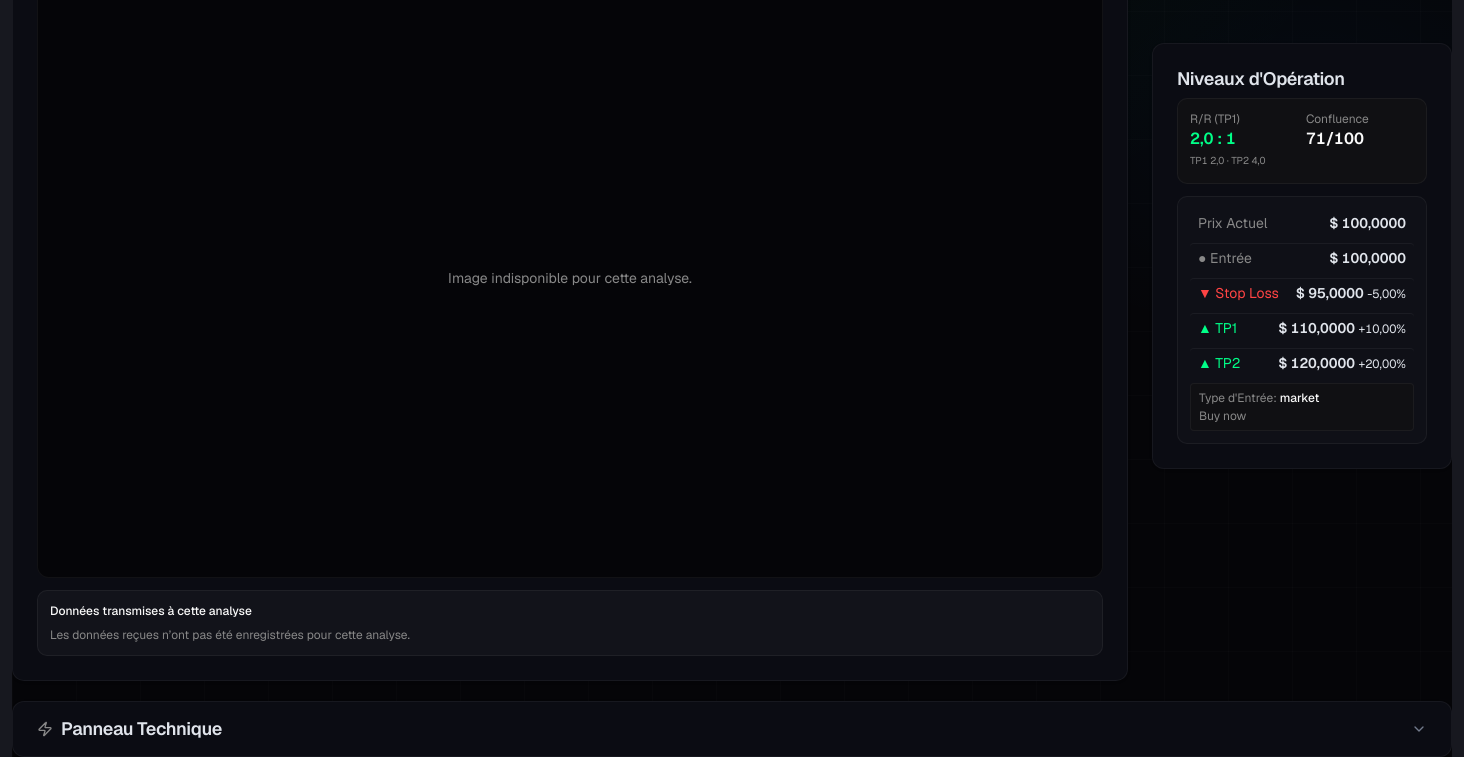
it: C1 technical evidence caution presentation › keeps caution distinct from failure in fr
(page scrolled)
Click the button "Panneau Technique" at (141, 729), box [13,702,1451,756]
(page scrolled)
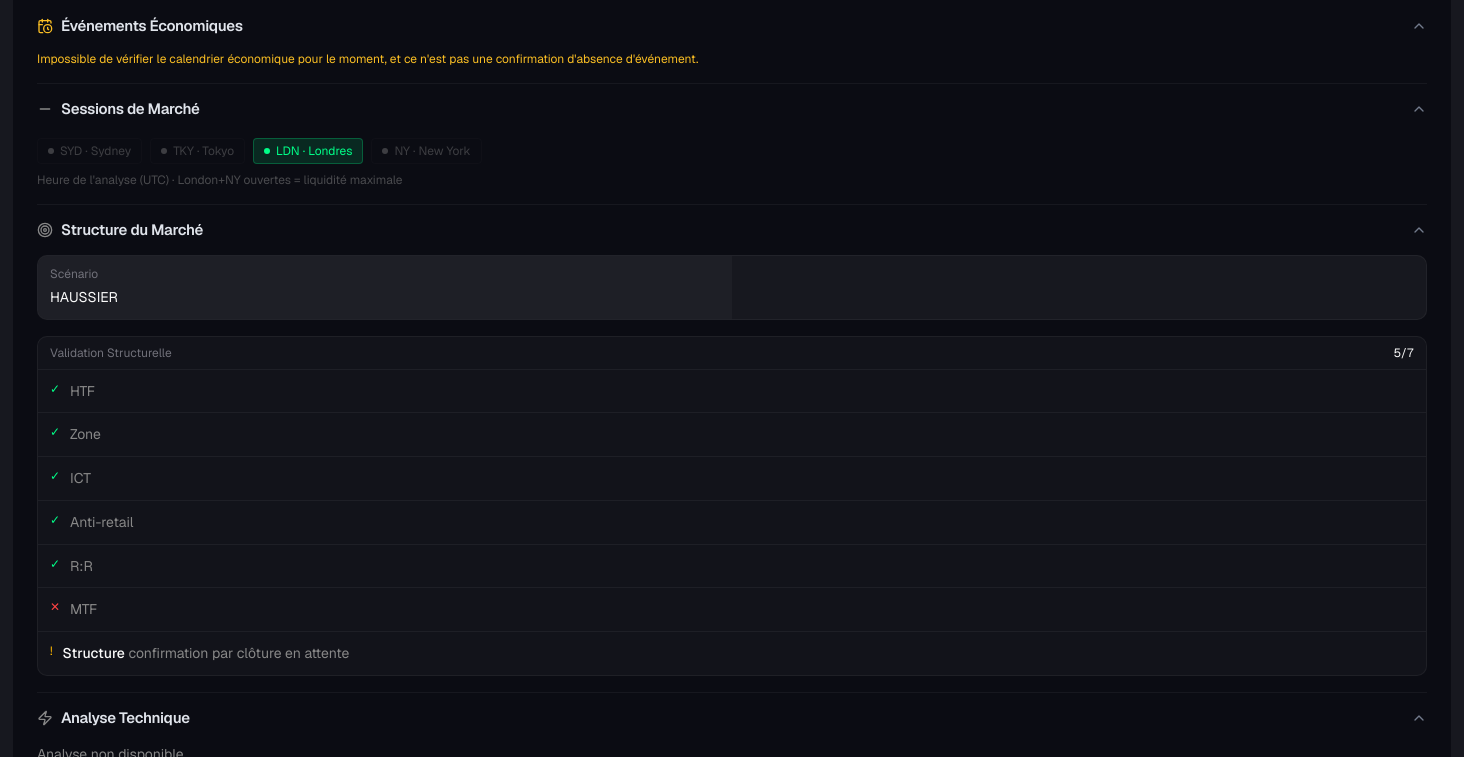
Expected: the text "!" is shown, [50,643,53,659]
Expected: the text "5/7" is shown, [1394,345,1414,361]
